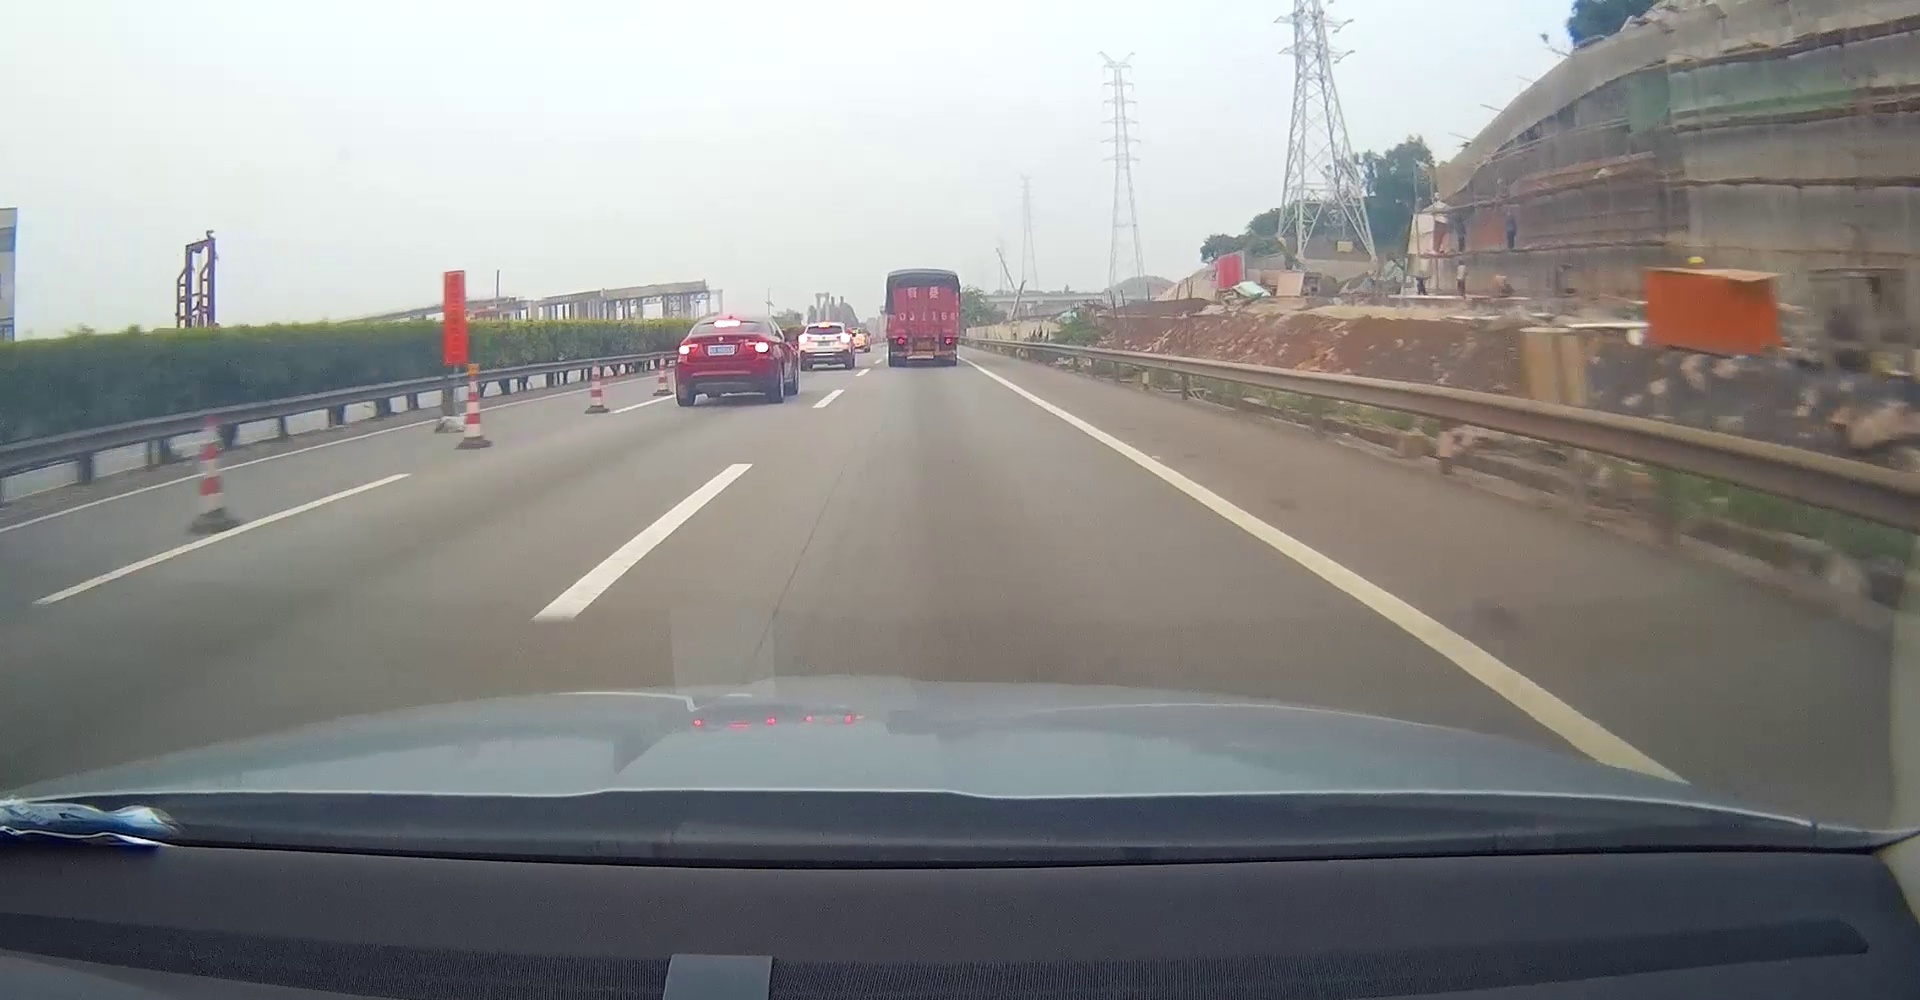L_light: (678, 343, 698, 357), (895, 338, 907, 345), (799, 336, 811, 343)
R_light: (744, 341, 768, 353), (836, 335, 850, 341), (943, 338, 954, 344)
T_light: (714, 319, 740, 327), (818, 324, 829, 327), (918, 275, 928, 278)
day-brake: (676, 313, 771, 406), (886, 268, 959, 365), (797, 321, 850, 371)
